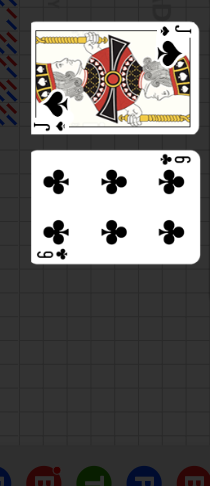6C: (35, 247, 70, 261), (158, 154, 192, 168)
JS: (33, 89, 80, 133), (154, 22, 200, 66)
